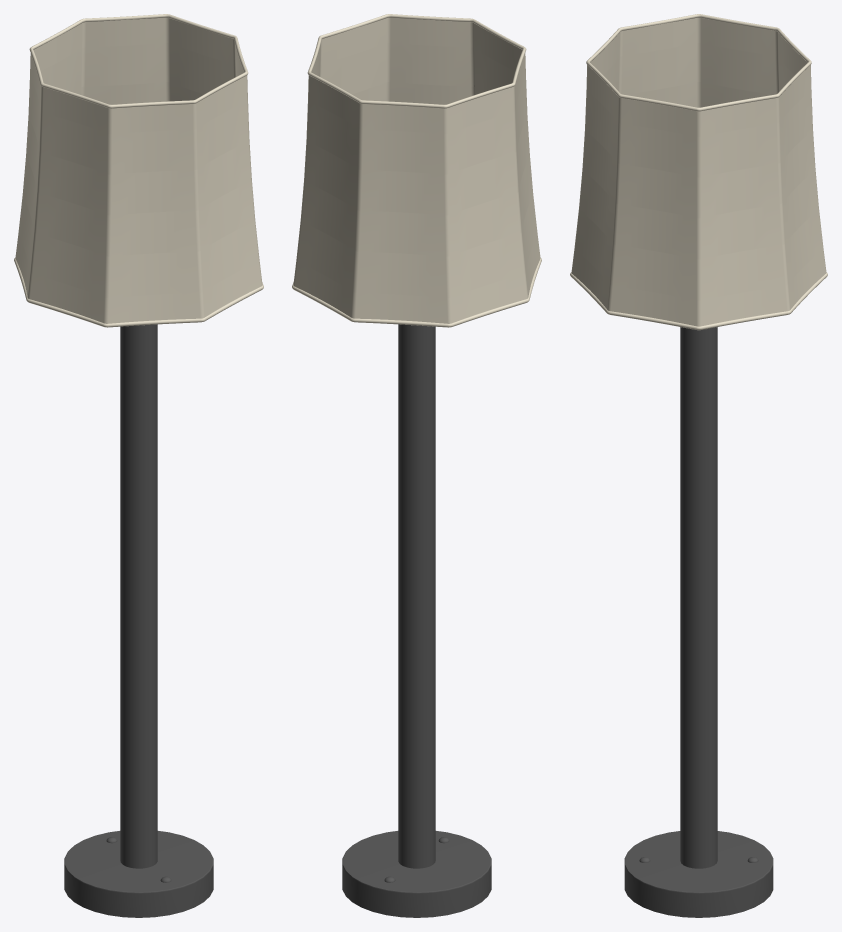
The model's file is observ_floorLamp.fbx.
3 views of the same model, side by side, from view 1: azimuth 30°, elevation 25°; view 2: azimuth 150°, elevation 25°; view 3: azimuth 270°, elevation 25° (orthographic).
Parts seen in each view (by area): view 1: polySurface13; view 2: polySurface13; view 3: polySurface13.
Part boxes in pixels (x1,y1,x2,y2): polySurface13: [14, 14, 263, 917]; polySurface13: [292, 14, 541, 917]; polySurface13: [570, 14, 827, 917].
Size of the model in its own units: 13.77 by 48.63 by 13.77.
